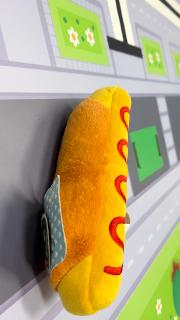hotdog: (42, 86, 132, 316)
